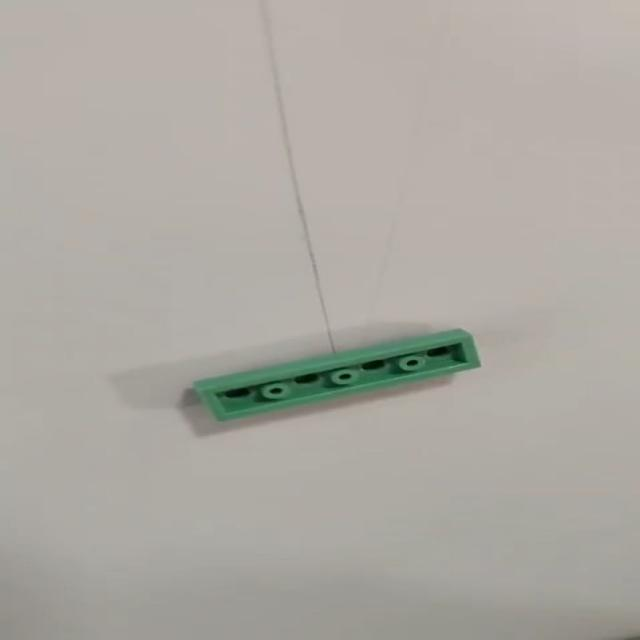C4x1x0: (163, 326, 481, 425)
